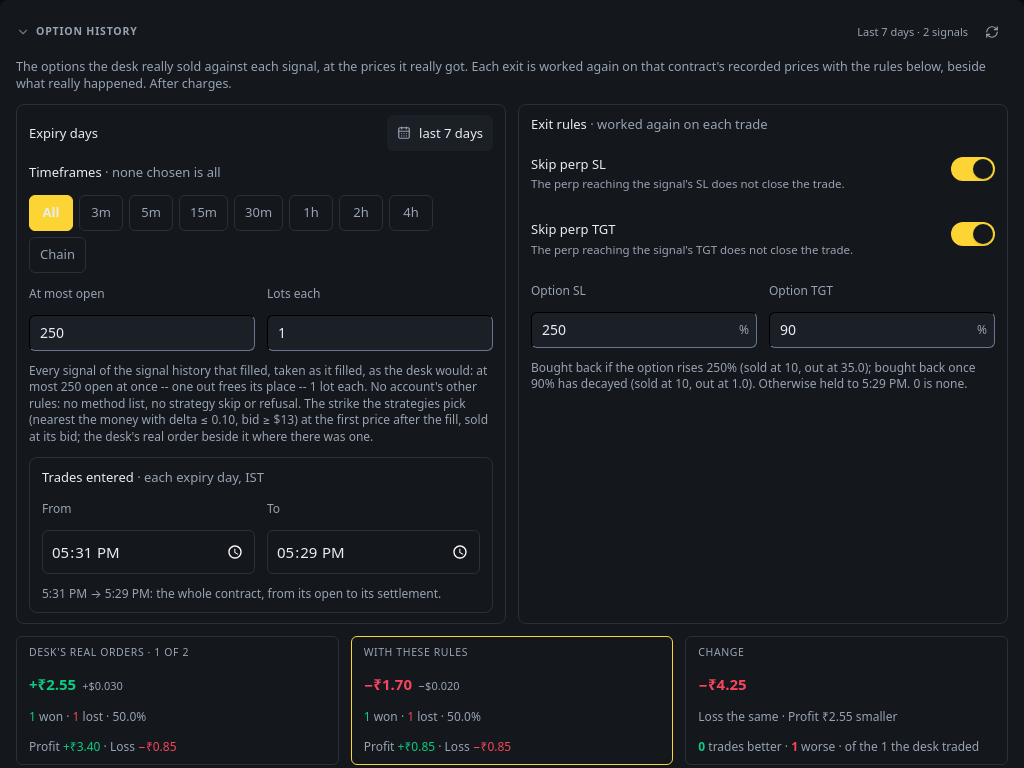
Option history › [critical] at most open and lots each (4 Nov 2026): 250 and 1 to begin with, asked half a second after a change; nonsense said, not asked
Check: the text "With these rules" is shown, box top-left (364, 645), bottom-right (468, 659)
Replace the text in the field named "At most open at once" with "40" at (142, 333), box top-left (29, 315), bottom-right (255, 351)
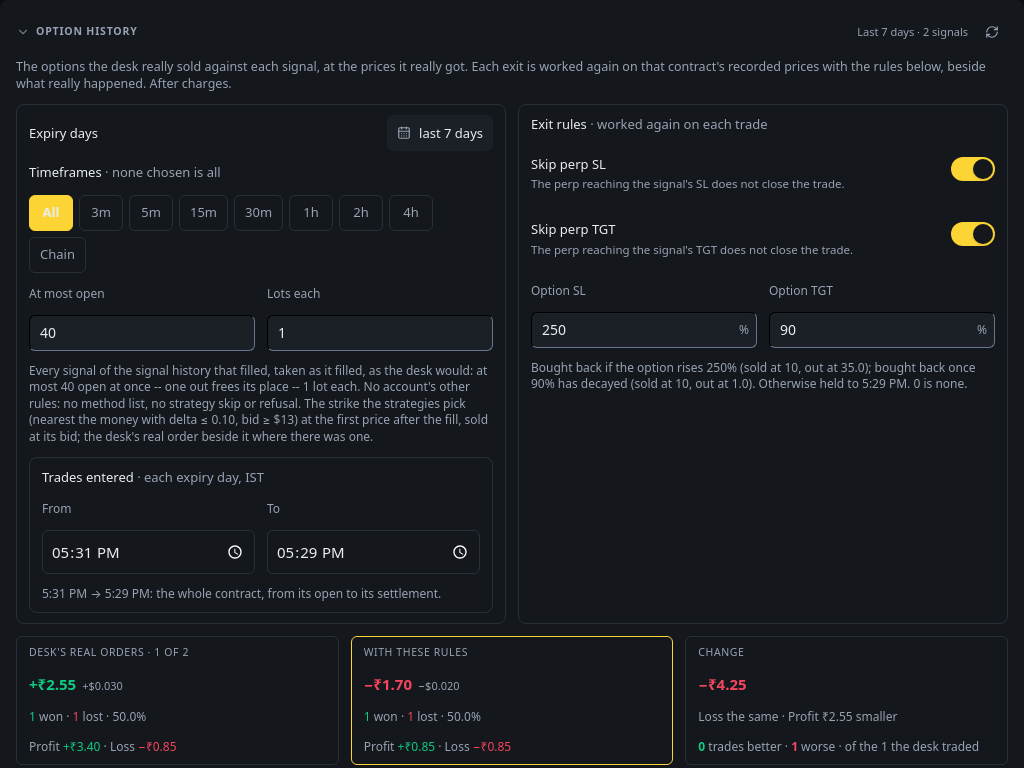
Replace the text in the field named "Lots each trade" with "3" at (380, 333), box top-left (267, 315), bottom-right (493, 351)
Wait 600 ms
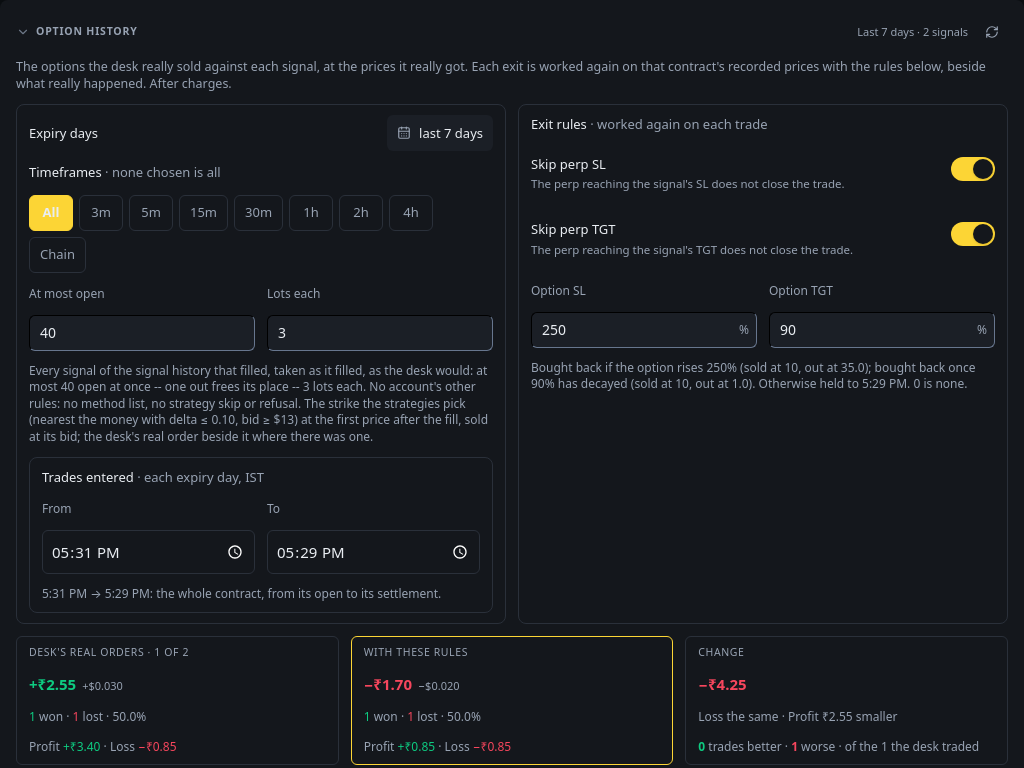
Check: the text "at most 40 open at once -- one out frees its place -- 3 lots each" is shown, box top-left (29, 363), bottom-right (493, 445)
Replace the text in the field named "Lots each trade" with "0" at (380, 333), box top-left (267, 315), bottom-right (493, 351)
Wait 600 ms
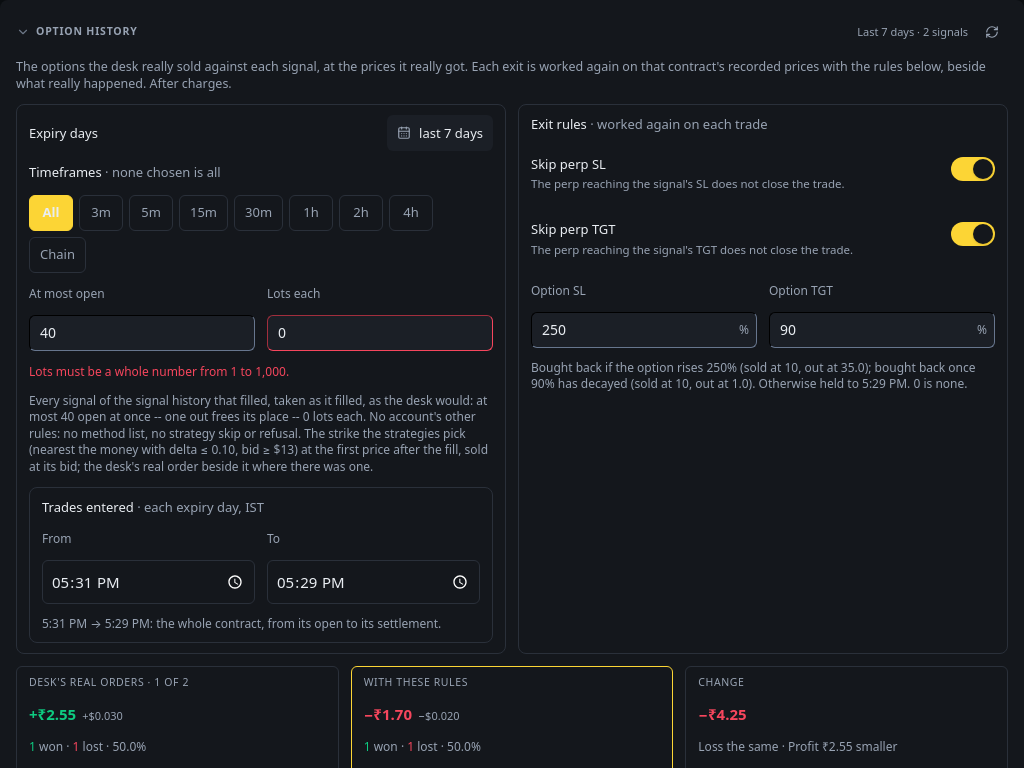
Check: the text "Lots must be a whole number from 1 to 1,000." is shown, box top-left (29, 363), bottom-right (289, 380)
